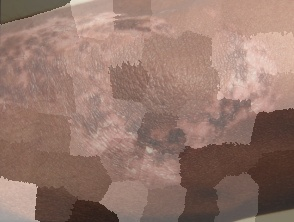vitiligo: (0, 12, 287, 198)
